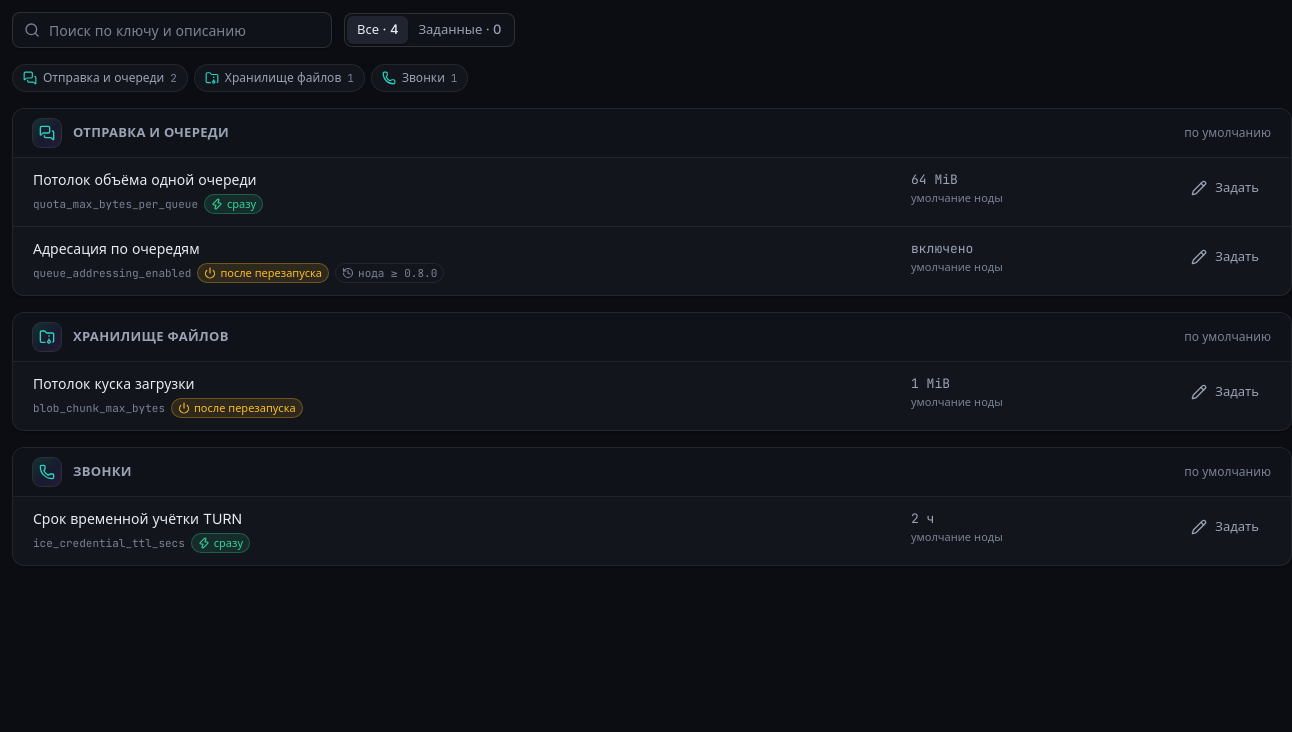
Test: LimitsEditor › edits a flag with a switch and marks the node version it needs
This screenshot has width=1292, height=732.
Check: the text "включено" is shown, box [911,240,973,257]
Check: the text "нода ≥ 0.8.0" is shown, box [335,263,444,283]
Click the button with aria-label "Задать queue_addressing_enabled". click: [1225, 257]
box: [1179,241,1271,273]
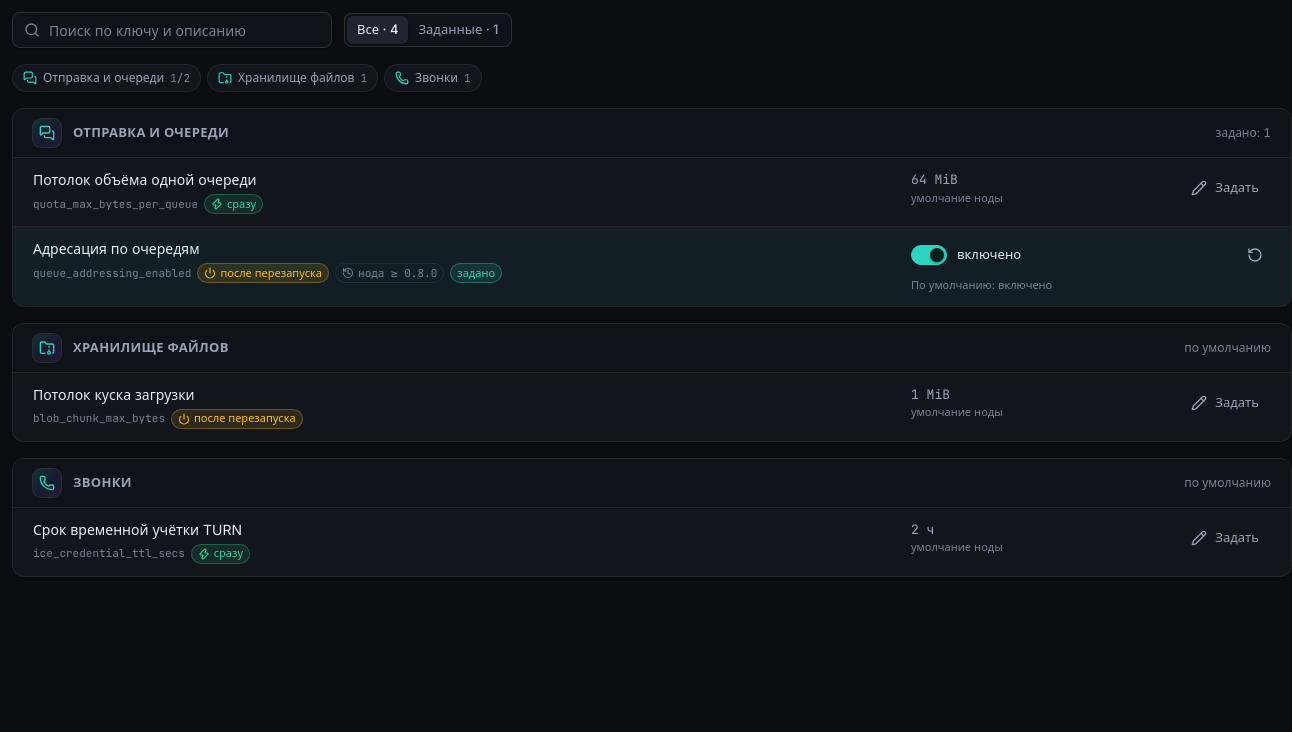
Check: the switch named "Адресация по очередям" is checked
Click the switch named "Адресация по очередям". click: [929, 255]
box: [911,245,947,265]
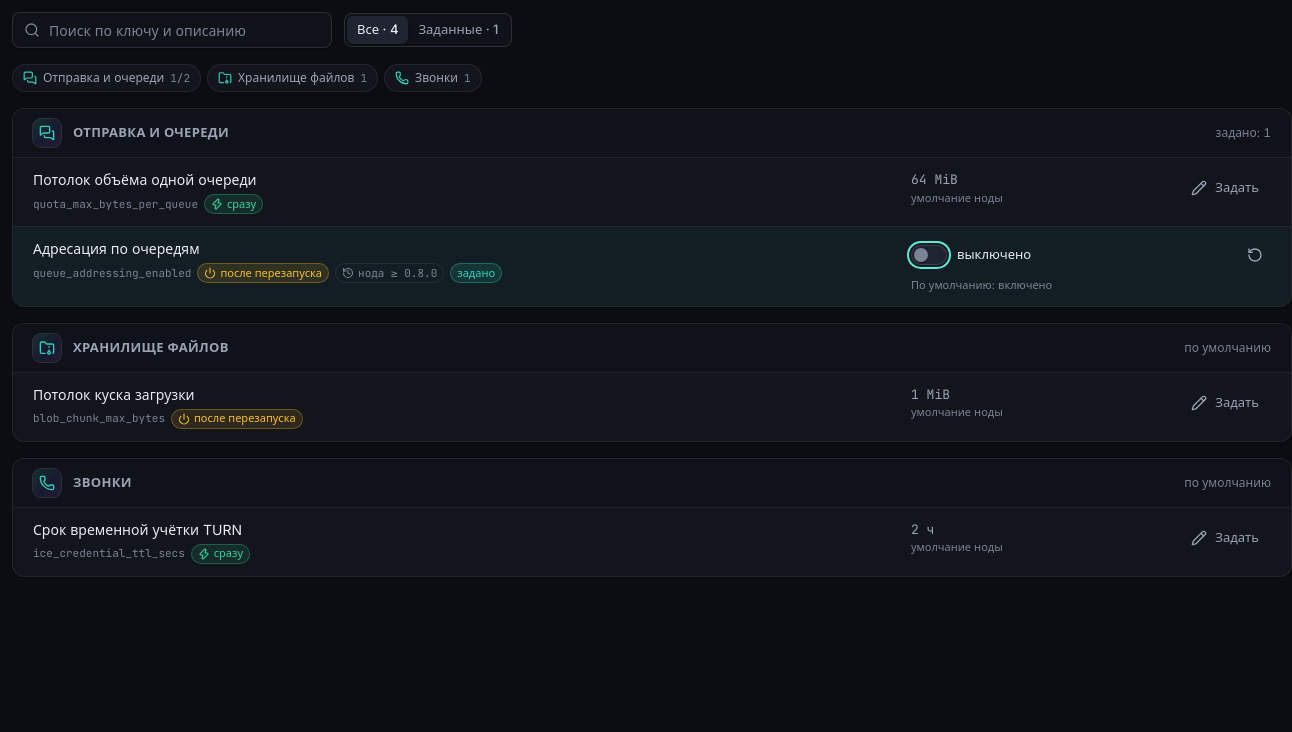
Check: the switch named "Адресация по очередям" is not checked, box [911,245,947,265]
Check: the text "выключено" is shown, box [957,245,1031,265]
